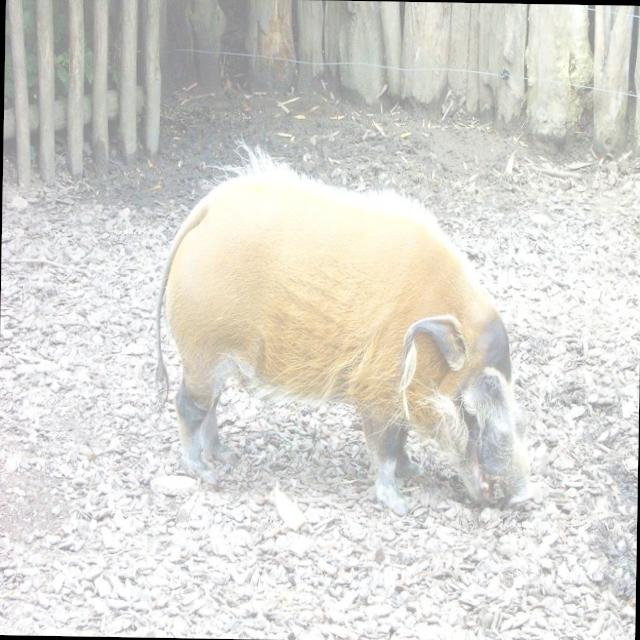pig: (156, 150, 529, 514)
